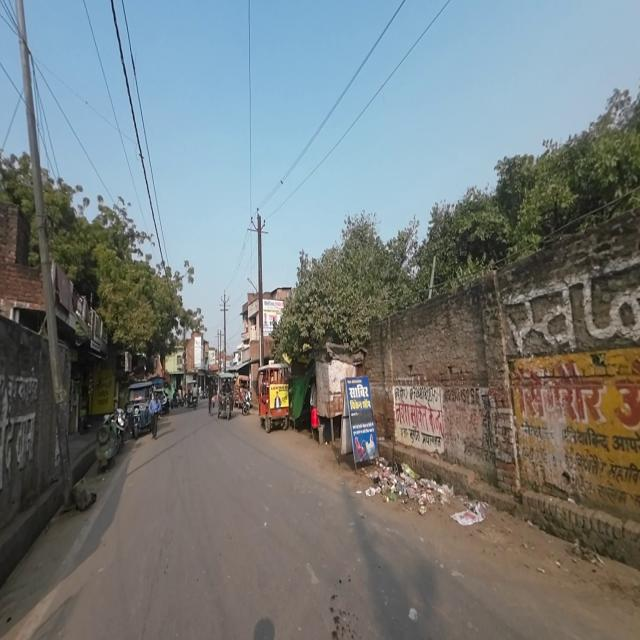Garbage: (368, 463, 428, 509), (568, 536, 602, 574), (457, 498, 489, 527), (431, 473, 455, 508)
